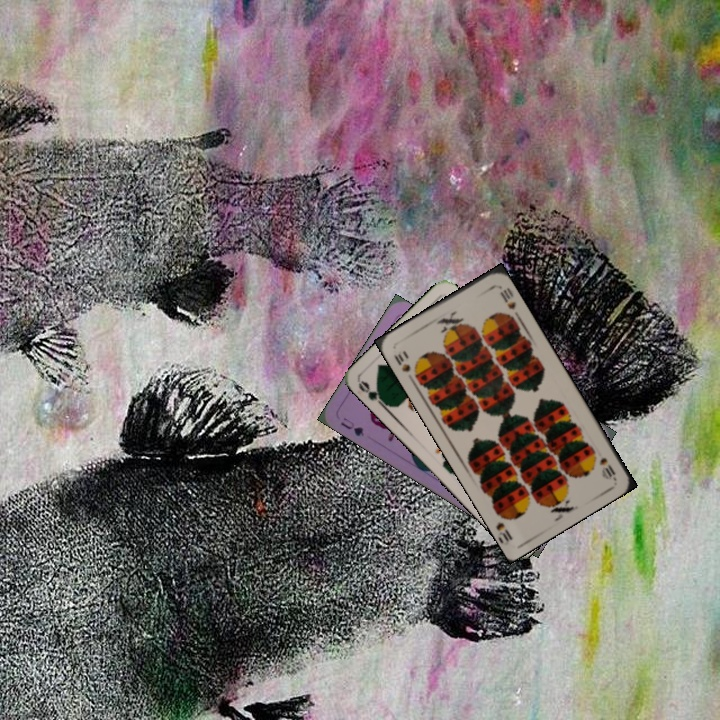GO: (354, 377, 391, 411)
GU: (336, 413, 367, 439)
S10: (390, 350, 421, 380), (595, 453, 618, 481)
